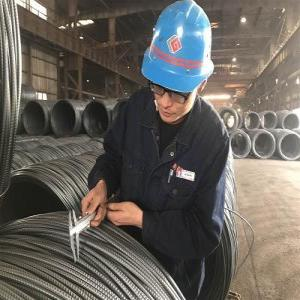blue: (143, 5, 216, 129)
